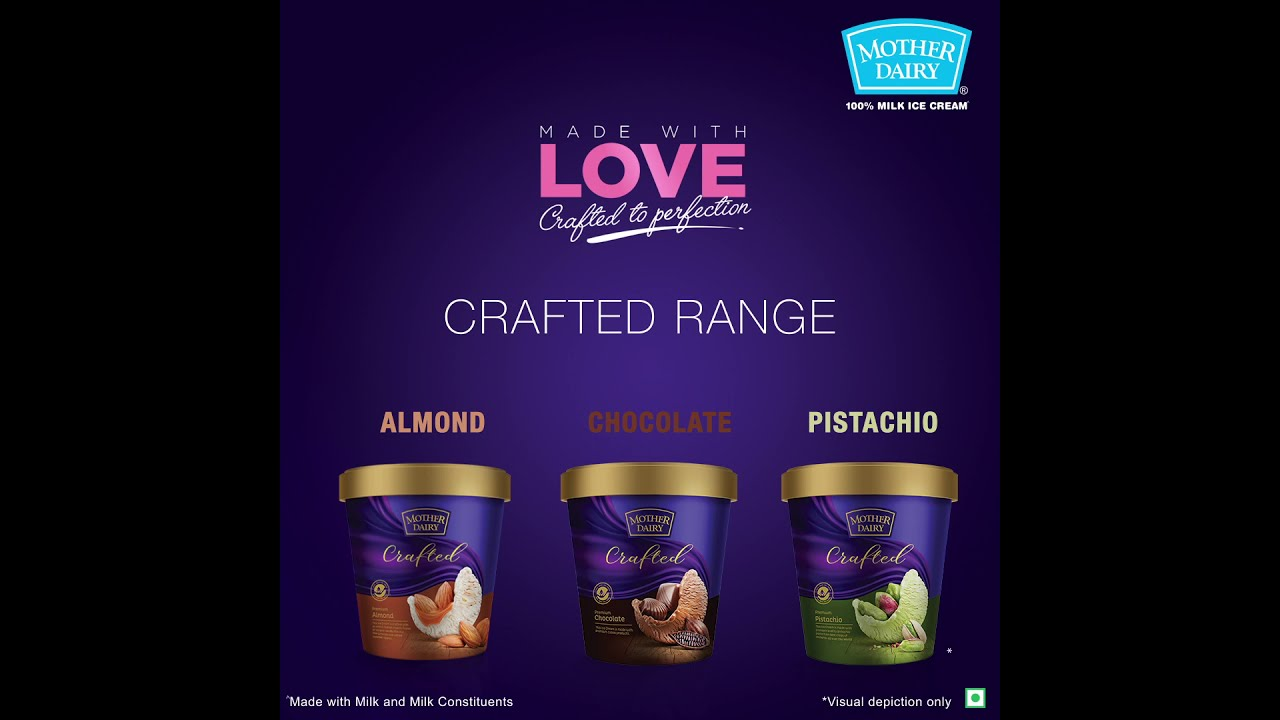Mother_Dairy: (825, 16, 986, 118), (844, 504, 901, 540), (620, 507, 680, 541), (397, 504, 456, 537)
